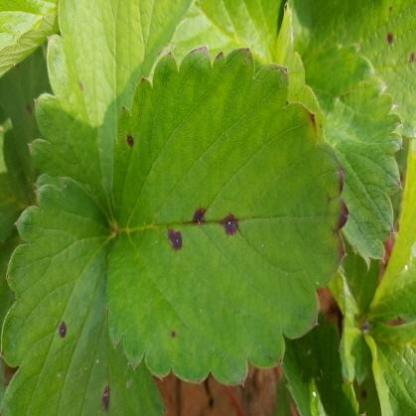Strawberry_Leaf_Spot: (105, 46, 351, 386), (0, 175, 166, 416), (27, 0, 196, 231), (302, 0, 415, 138), (0, 44, 53, 208), (352, 361, 383, 415)
